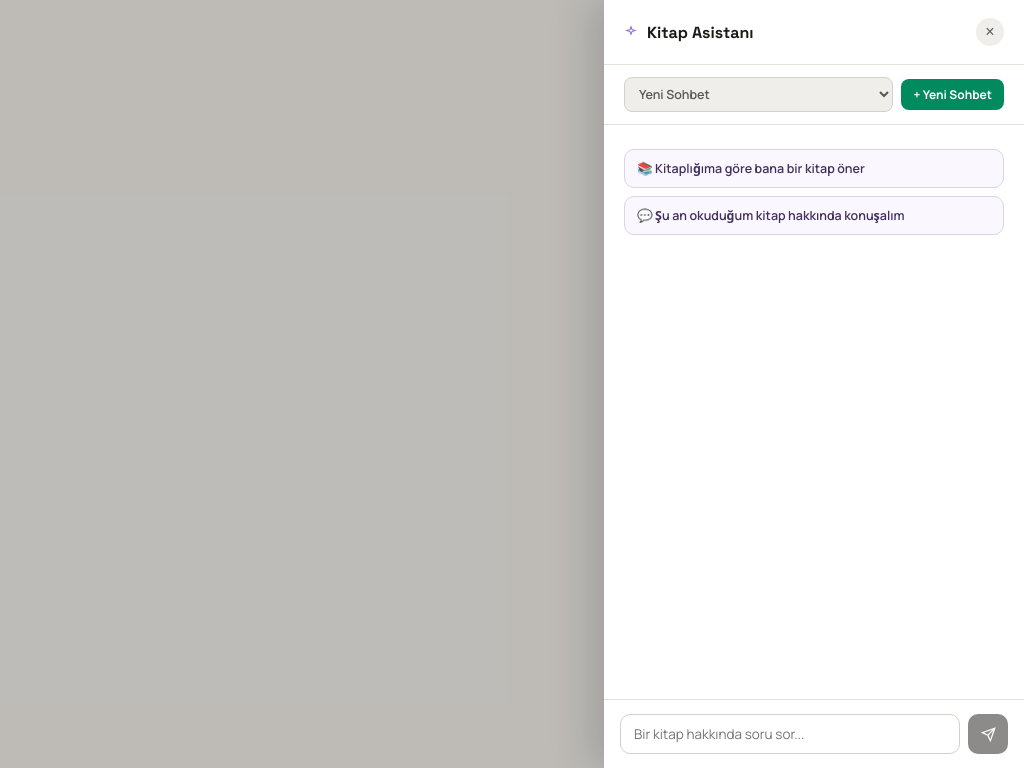
Test: AiChatDrawer › shows a friendly, translated notice and disables the composer once the shared daily Gemini quota is used up
Type "Bilim kurgu onerir misin?" into the field with placeholder "Bir kitap hakkında soru sor..." at (790, 734), box [620, 714, 960, 754]
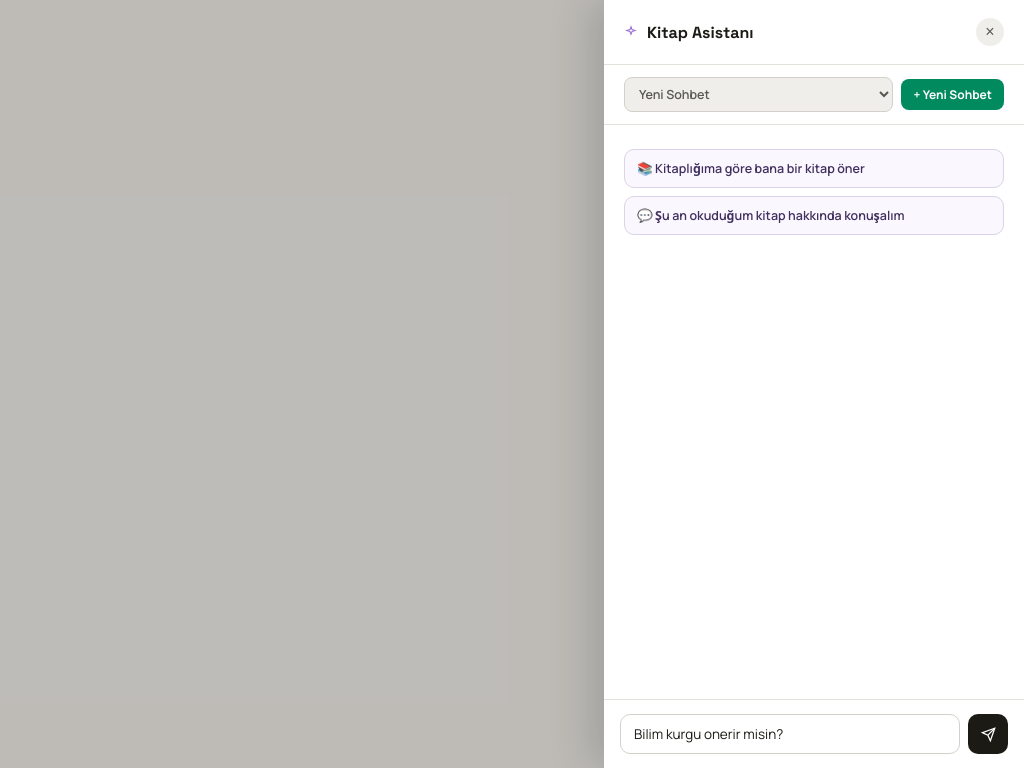
Click the button named "Gönder" at (988, 734), box [968, 714, 1008, 754]
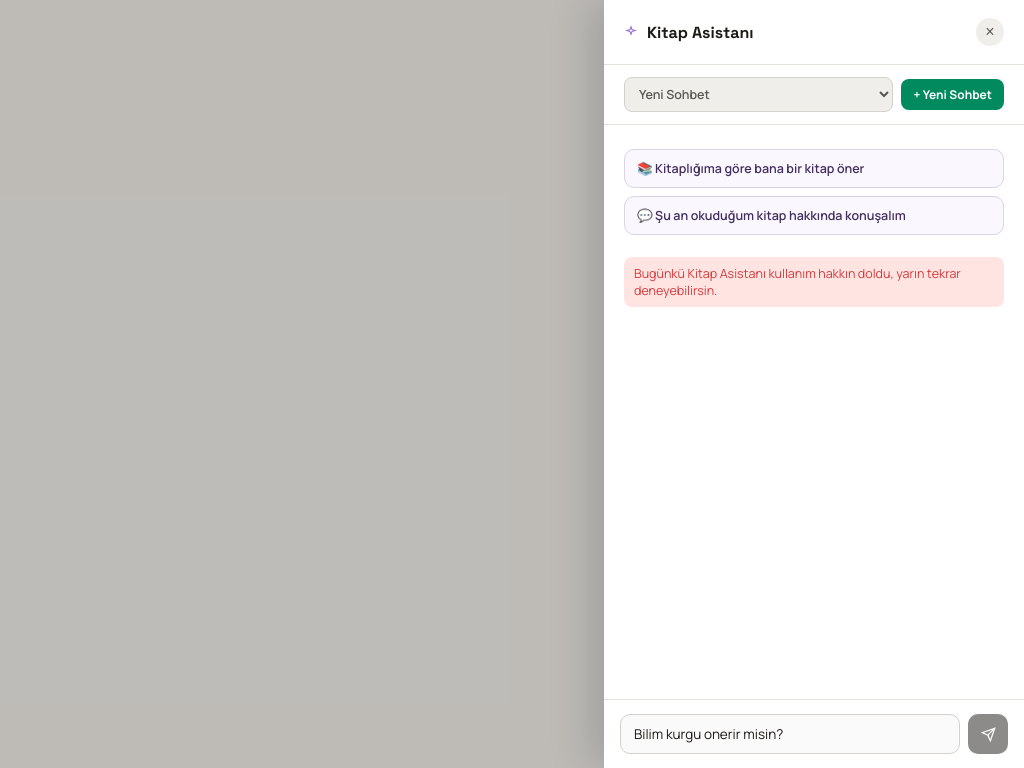
Expected: the field with placeholder "Bugünkü Kitap Asistanı kullanım hakkın doldu, yarın tekrar deneyebilirsin." is disabled, [620, 714, 960, 754]
Expected: the text "Bugünkü Kitap Asistanı kullanım hakkın doldu, yarın tekrar deneyebilirsin." is shown, [624, 257, 1004, 307]
Expected: the button named "Gönder" is disabled, [968, 714, 1008, 754]
